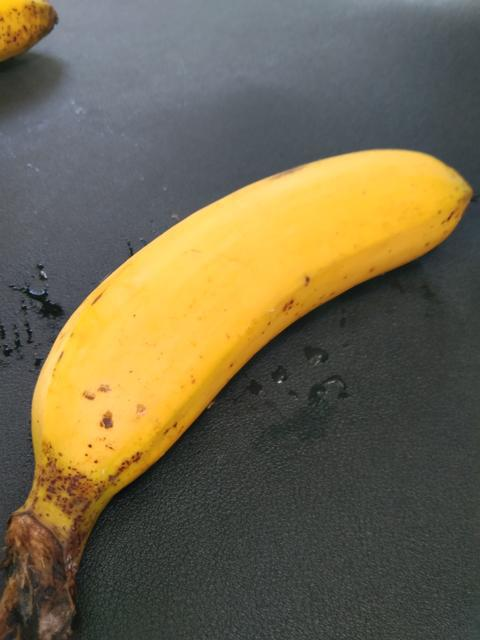freshripe: (26, 133, 479, 521)
